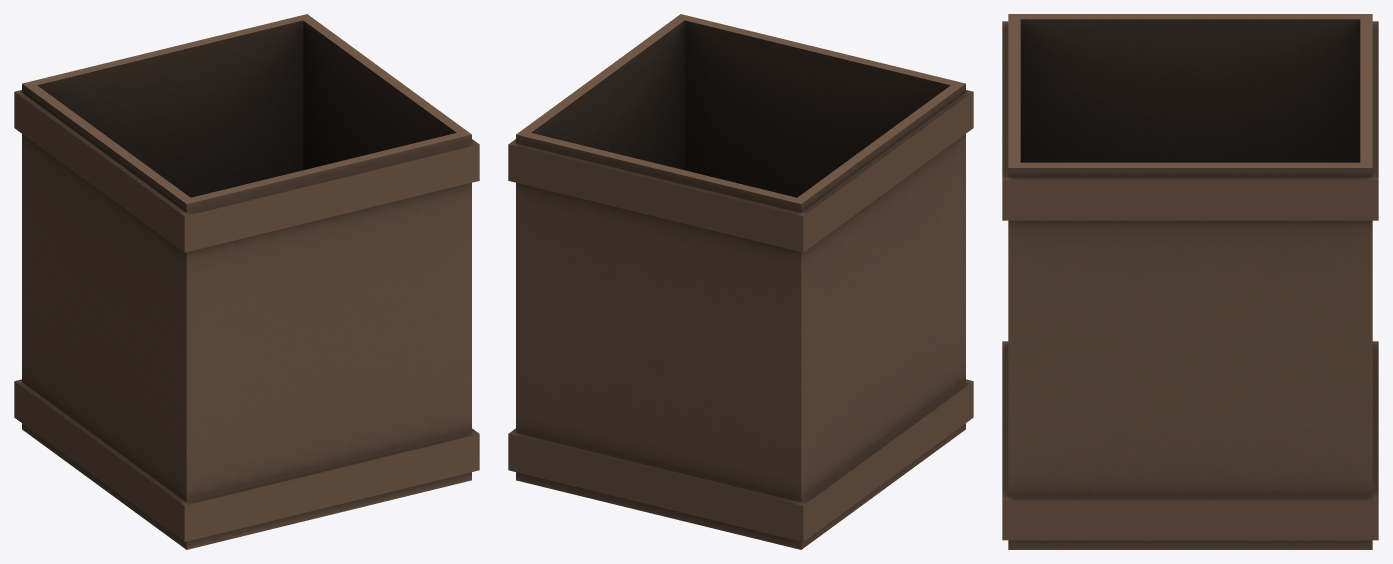
File: Crate_Tall.fbx
3 views of the same model, side by side, from view 1: azimuth 30°, elevation 25°; view 2: azimuth 150°, elevation 25°; view 3: azimuth 270°, elevation 25° (orthographic). The views are drawn at different scales.
Parts seen in each view (by area): view 1: Crate_Tall; view 2: Crate_Tall; view 3: Crate_Tall.
Part boxes in pixels (x1,y1,x2,y2): Crate_Tall: [14, 14, 479, 549]; Crate_Tall: [508, 14, 973, 549]; Crate_Tall: [1002, 14, 1378, 549].
Size of the model in its own units: 1.32 by 1.48 by 1.32.
